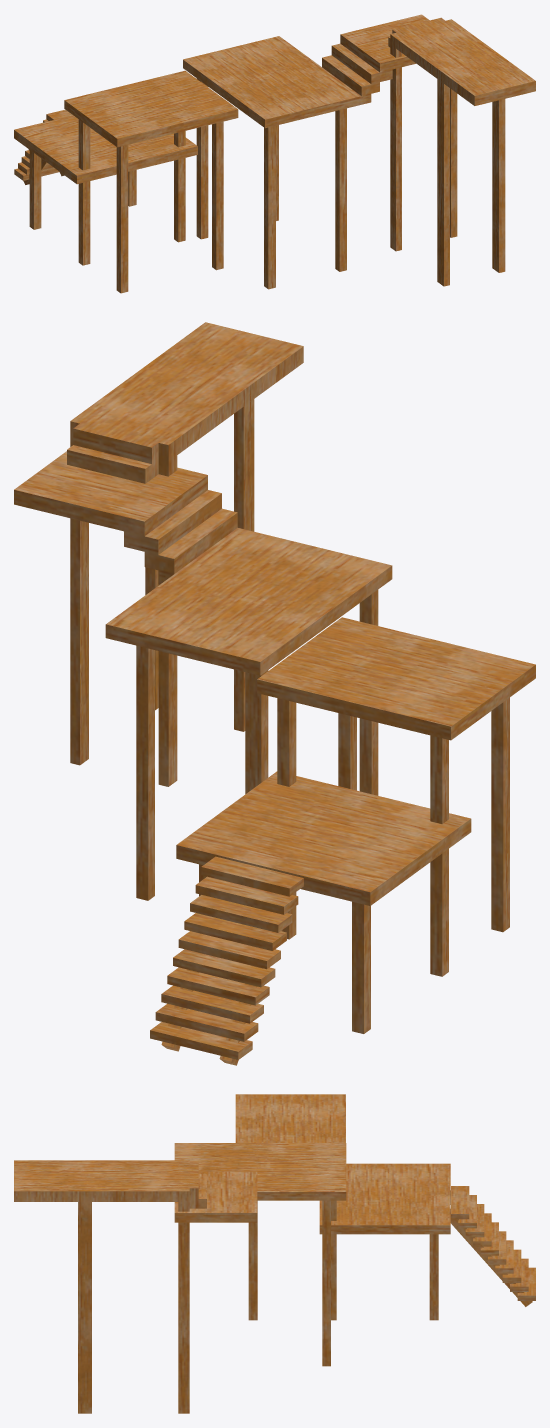
Rendered from wooden_platforms.fbx.
The picture shows the model from 3 angles, top to bottom: view 1: azimuth 30°, elevation 25°; view 2: azimuth 150°, elevation 25°; view 3: azimuth 270°, elevation 25°; orthographic projection. The views are drawn at different scales.
Visible parts, largest first — view 1: Cube.009, Cube.010, Cube.058, Cube.059, Cube.016, Cube.018, Cube.063, Cube.064, Cube.065, Cube.017, Cube.066, Cube.072 (+1 smaller); view 2: Cube.010, Cube.009, Cube.059, Cube.058, Cube.012, Cube.015, Cube.063, Cube.065, Cube.072, Cube.016, Cube.017, Cube.066 (+1 smaller); view 3: Cube.009, Cube.010, Cube.059, Cube.058, Cube.012, Cube.015, Cube.064, Cube.073, Cube.066, Cube.060.
Boxes of the visible parts, bbox=[...] form: Cube.009: bbox=[388, 17, 535, 286]; Cube.010: bbox=[183, 14, 429, 128]; Cube.058: bbox=[64, 70, 238, 147]; Cube.059: bbox=[14, 115, 197, 184]; Cube.016: bbox=[264, 125, 275, 289]; Cube.018: bbox=[335, 108, 346, 271]; Cube.063: bbox=[116, 145, 128, 293]; Cube.064: bbox=[212, 121, 223, 270]; Cube.065: bbox=[78, 119, 90, 265]; Cube.017: bbox=[196, 78, 208, 239]; Cube.066: bbox=[174, 131, 185, 242]; Cube.072: bbox=[29, 150, 41, 229]; Cube.010: bbox=[14, 451, 392, 675]; Cube.009: bbox=[67, 322, 303, 786]; Cube.059: bbox=[176, 771, 471, 905]; Cube.058: bbox=[257, 617, 535, 740]; Cube.012: bbox=[150, 856, 303, 1059]; Cube.015: bbox=[136, 645, 154, 900]; Cube.063: bbox=[491, 697, 509, 932]; Cube.065: bbox=[430, 735, 448, 976]; Cube.072: bbox=[352, 901, 370, 1033]; Cube.016: bbox=[359, 590, 378, 795]; Cube.017: bbox=[249, 670, 268, 790]; Cube.066: bbox=[277, 698, 296, 939]; Cube.009: bbox=[14, 1160, 206, 1413]; Cube.010: bbox=[174, 1143, 346, 1222]; Cube.059: bbox=[319, 1163, 450, 1234]; Cube.058: bbox=[235, 1094, 345, 1142]; Cube.012: bbox=[451, 1186, 535, 1300]; Cube.015: bbox=[322, 1200, 330, 1366]; Cube.064: bbox=[248, 1201, 257, 1320]; Cube.073: bbox=[429, 1234, 438, 1320]; Cube.066: bbox=[331, 1200, 336, 1320]; Cube.060: bbox=[450, 1209, 532, 1306].
Size of the model in its own units: 4075 by 2733 by 5612.
1 material, 1 textured.
